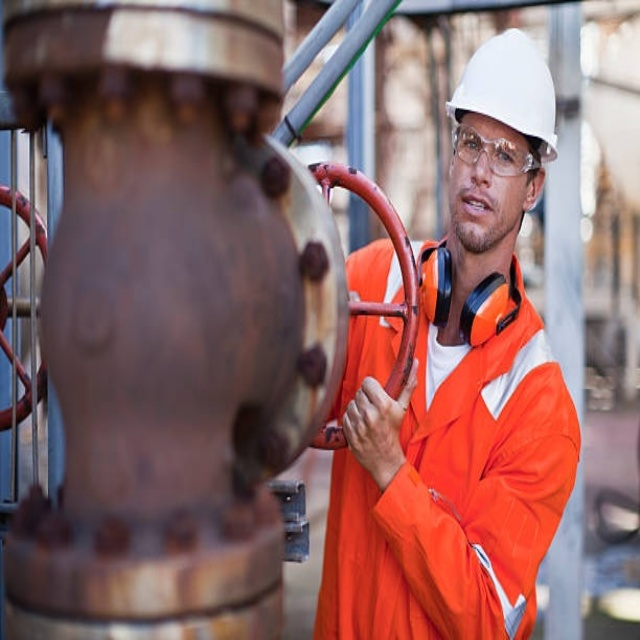Gafas: (450, 122, 541, 178)
Sin_guantes: (341, 368, 416, 489)
Sin_mascara: (458, 184, 498, 242)
